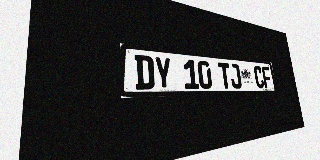0: (197, 60, 212, 89)
1: (183, 59, 199, 89)
C: (253, 66, 265, 88)
D: (134, 54, 155, 90)
F: (261, 66, 272, 88)
J: (229, 63, 242, 89)
T: (218, 62, 232, 89)
Y: (154, 56, 173, 89)
